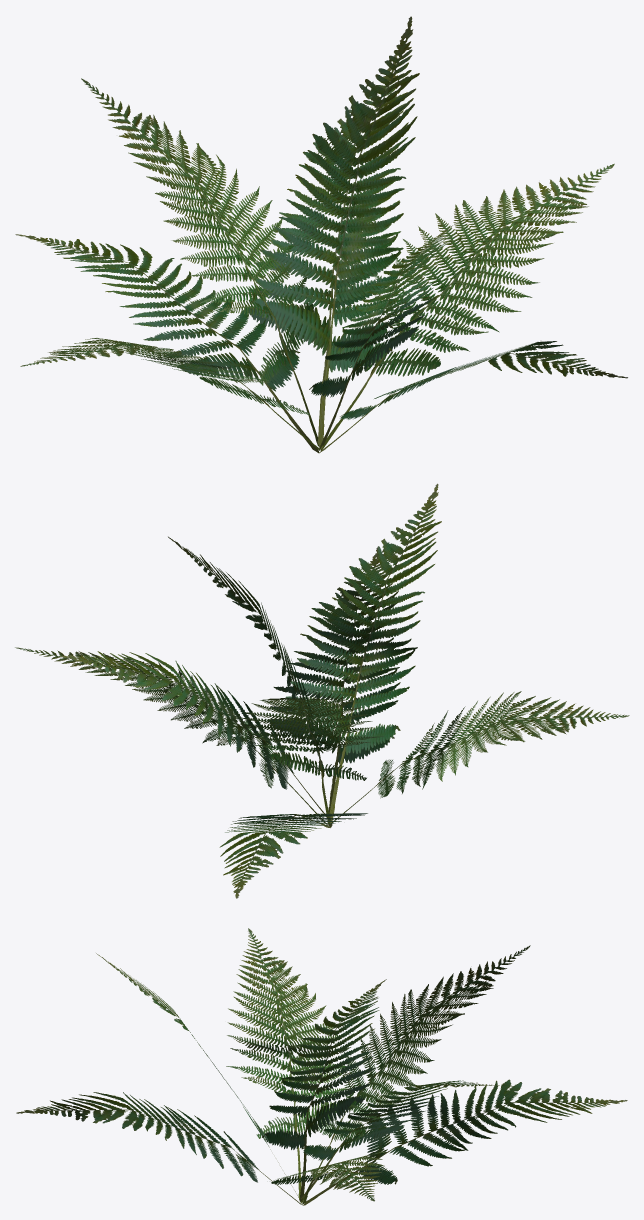
The model's file is obj__fern2.obj.
3 views of the same model, one above another, from view 1: azimuth 30°, elevation 25°; view 2: azimuth 150°, elevation 25°; view 3: azimuth 270°, elevation 25° (orthographic). The views are drawn at different scales.
Parts seen in each view (by area): view 1: fern2.tga; view 2: fern2.tga; view 3: fern2.tga.
Part boxes in pixels (x1,y1,x2,y2): fern2.tga: [15, 16, 627, 453]; fern2.tga: [15, 483, 629, 898]; fern2.tga: [16, 928, 627, 1205].
Bounding box in the file's own units: 45.34 × 23.32 × 45.99.
Materials: 1 (1 with a texture image).
